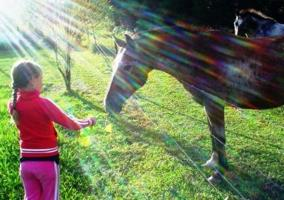person: (8, 62, 96, 199)
